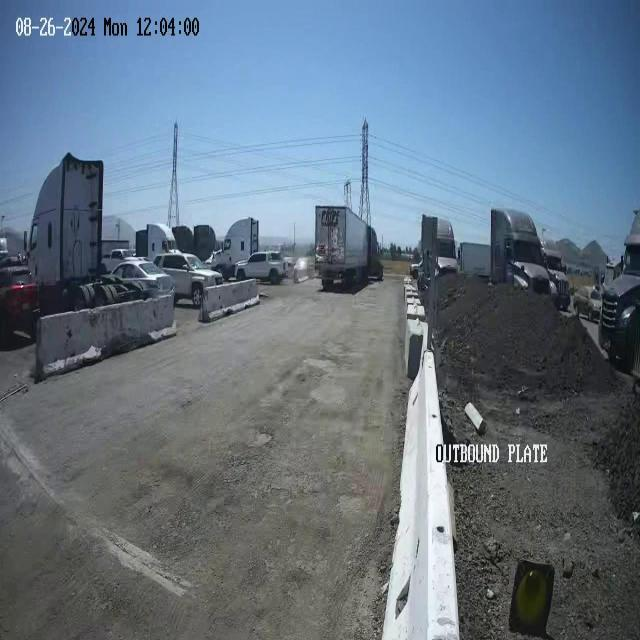TRUCK_IN: (314, 208, 384, 292)
